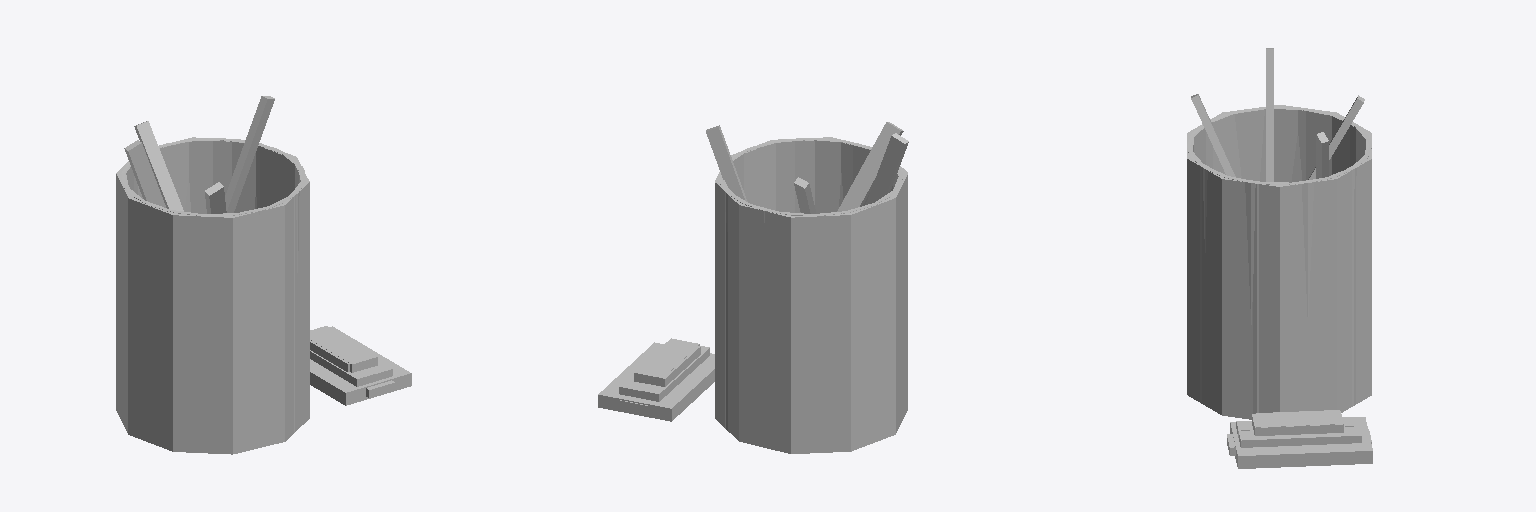
File: barrel_pit_after_garbage.obj
3 renders of one model, left to right at view 1: azimuth 30°, elevation 25°; view 2: azimuth 150°, elevation 25°; view 3: azimuth 270°, elevation 25°, orthographic.
Visible parts, largest first — view 1: LOD_barrelpit_2, barrelpitafter, LOD_barrelpit_1; view 2: LOD_barrelpit_2, barrelpitafter, LOD_barrelpit_1; view 3: LOD_barrelpit_2, LOD_barrelpit_1, barrelpitafter.
Boxes of the visible parts, <box> form: LOD_barrelpit_2: <box>116,137,411,454</box>; barrelpitafter: <box>121,96,395,397</box>; LOD_barrelpit_1: <box>121,140,302,432</box>; LOD_barrelpit_2: <box>598,137,907,453</box>; barrelpitafter: <box>619,122,908,413</box>; LOD_barrelpit_1: <box>718,139,903,430</box>; LOD_barrelpit_2: <box>1187,105,1372,468</box>; LOD_barrelpit_1: <box>1188,107,1370,413</box>; barrelpitafter: <box>1187,48,1371,455</box>.
Size of the model in its own units: 102 by 107 by 61.08.